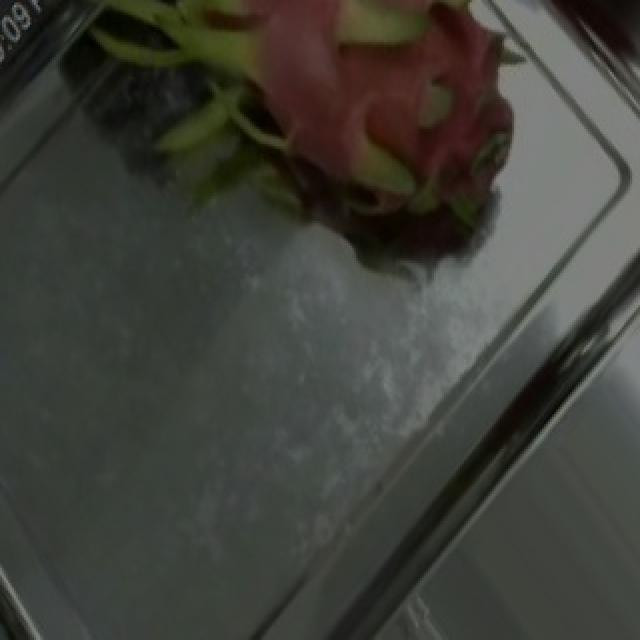fruit: (144, 0, 592, 330)
